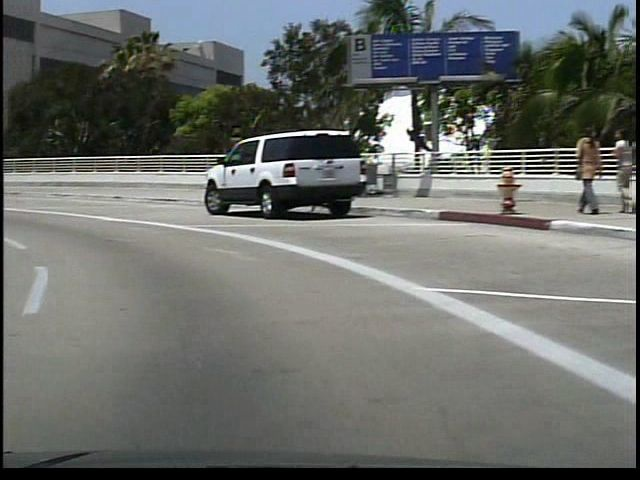person: (564, 123, 593, 219)
